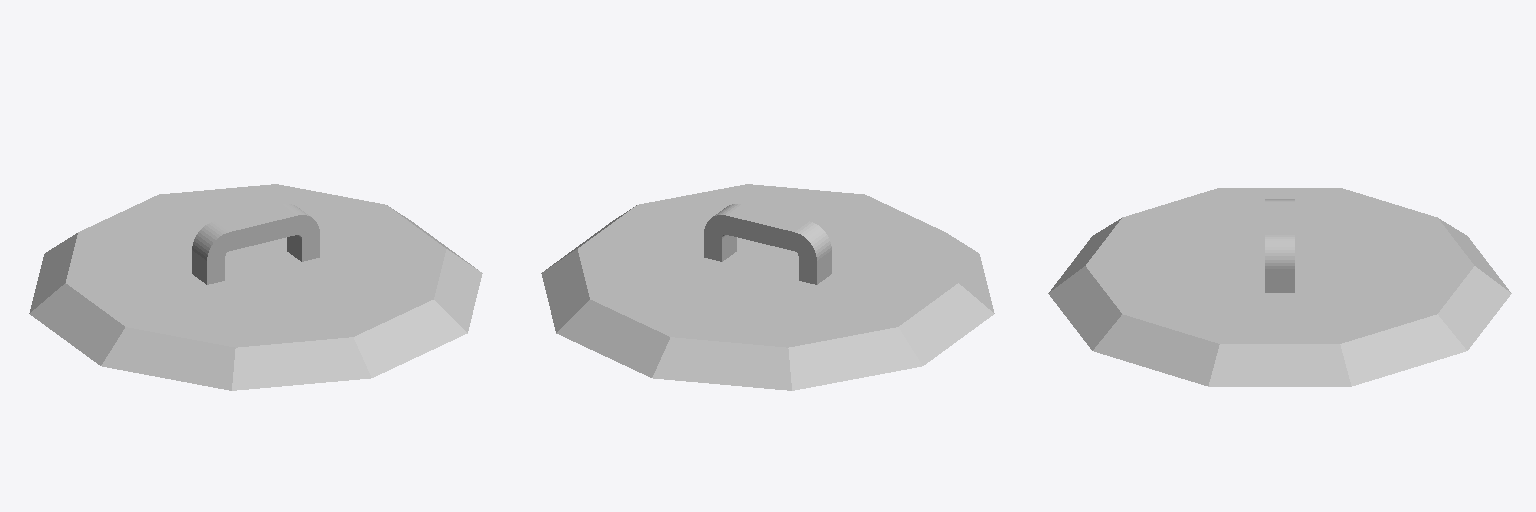
The model's file is fryingPanLid.obj.
3 renders of one model, left to right at view 1: azimuth 30°, elevation 25°; view 2: azimuth 150°, elevation 25°; view 3: azimuth 270°, elevation 25°, orthographic.
Parts seen in each view (by area): view 1: fryingPanLid; view 2: fryingPanLid; view 3: fryingPanLid.
Part boxes in pixels (bbox=[...]): fryingPanLid: bbox=[29, 184, 482, 390]; fryingPanLid: bbox=[541, 184, 994, 390]; fryingPanLid: bbox=[1048, 188, 1511, 386].
Bounding box in the file's own units: 0.5767 × 0.1084 × 0.6064.